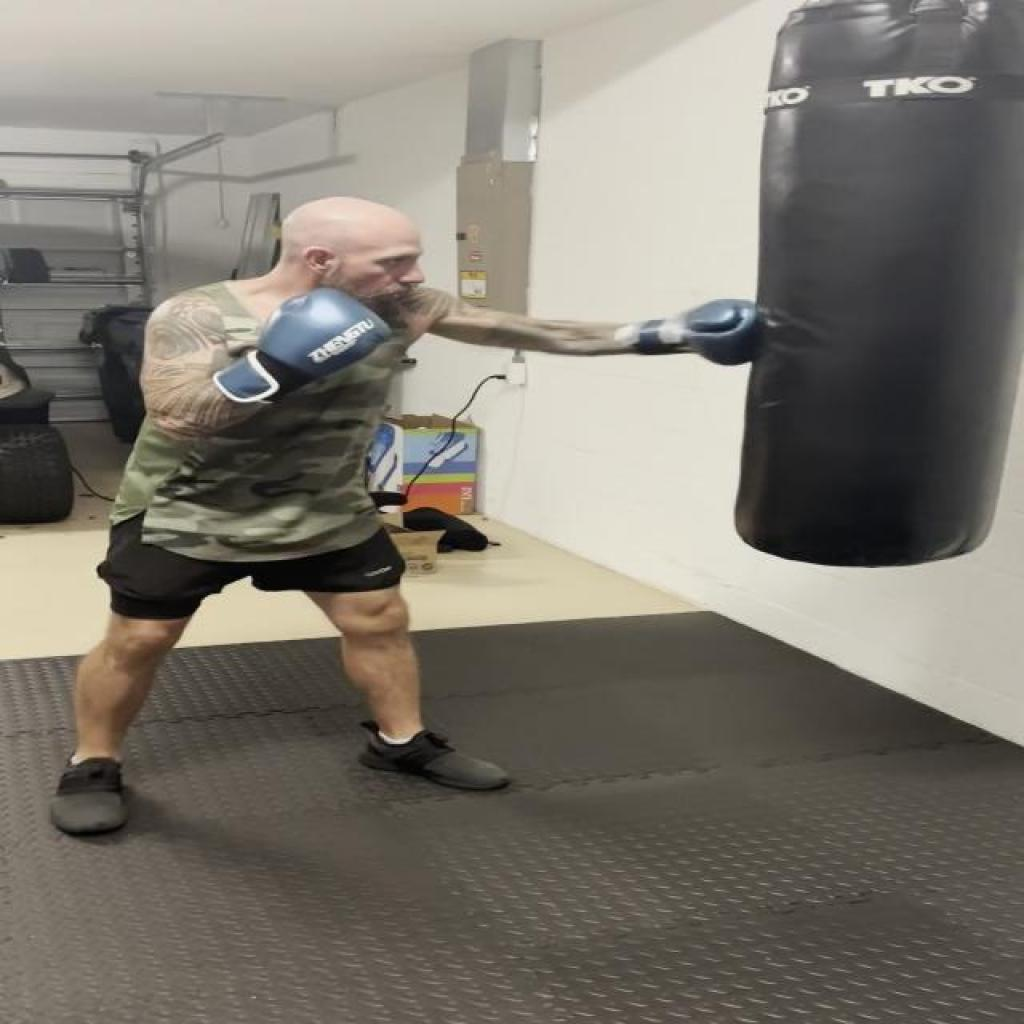bag: (773, 8, 1022, 590)
jab: (128, 171, 794, 466)
